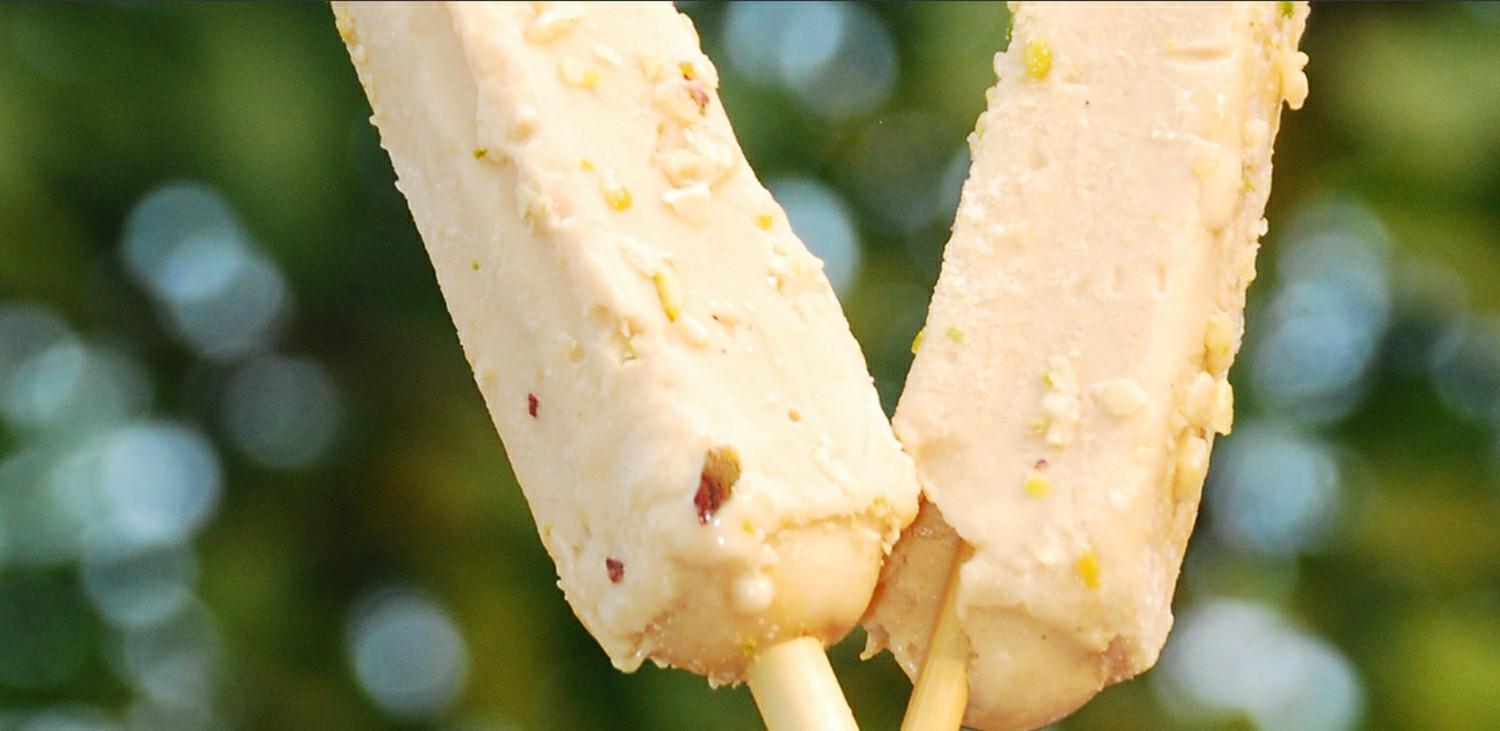Kulfi: (326, 0, 922, 680), (859, 0, 1308, 731)
